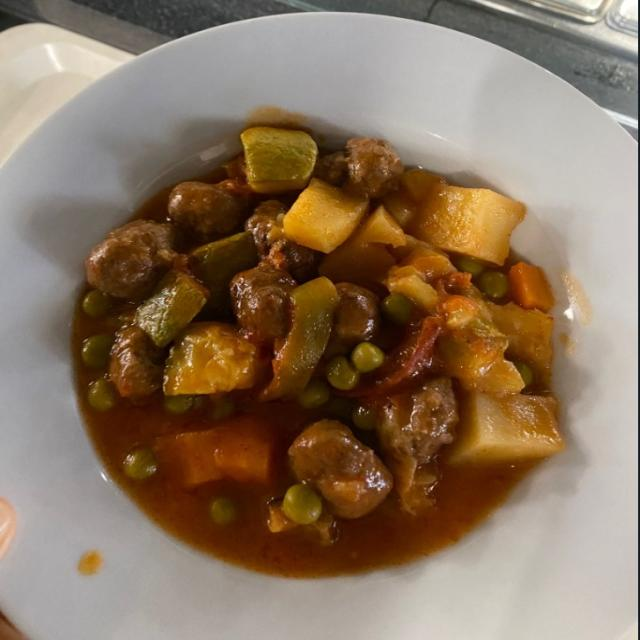ana_yemek: (73, 110, 565, 560)
